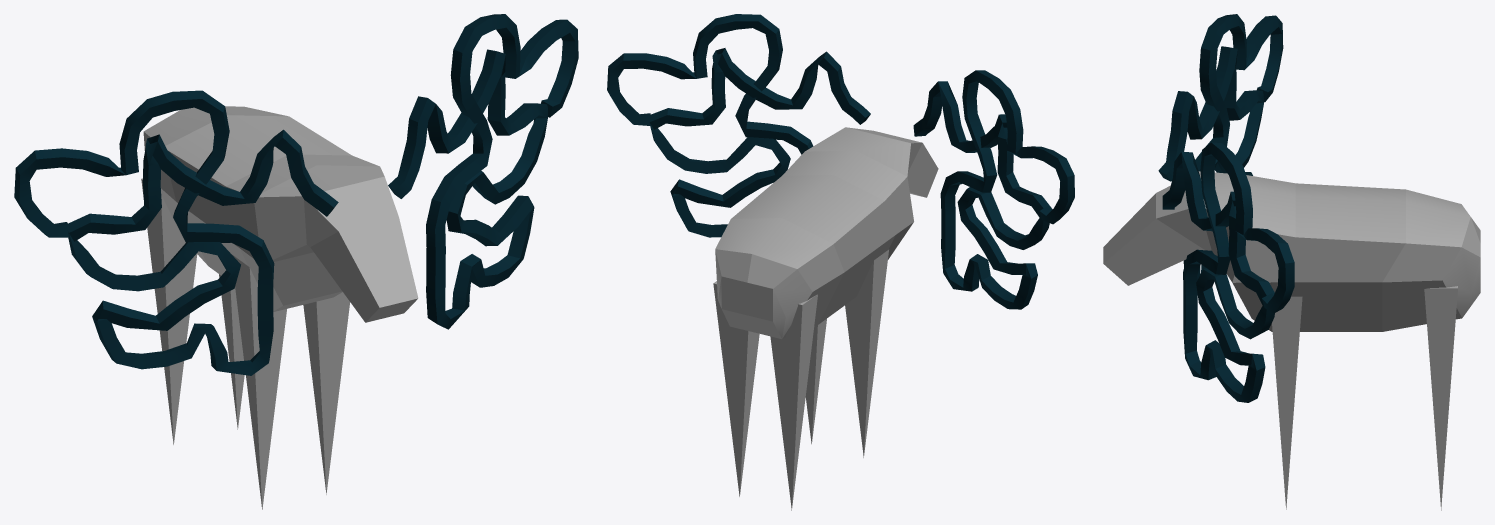
The model's file is MAX_MythicalMoose01.fbx.
3 views of the same model, side by side, from view 1: azimuth 30°, elevation 25°; view 2: azimuth 150°, elevation 25°; view 3: azimuth 270°, elevation 25° (orthographic). The views are drawn at different scales.
Parts seen in each view (by area): view 1: CH_MythicalMoose01; view 2: CH_MythicalMoose01; view 3: CH_MythicalMoose01.
Boxes of the visible parts, x1,y1,x2,y2 form: CH_MythicalMoose01: (14,14,578,509); CH_MythicalMoose01: (607,14,1074,510); CH_MythicalMoose01: (1103,14,1480,510).
Size of the model in its own units: 240 by 191 by 158.
